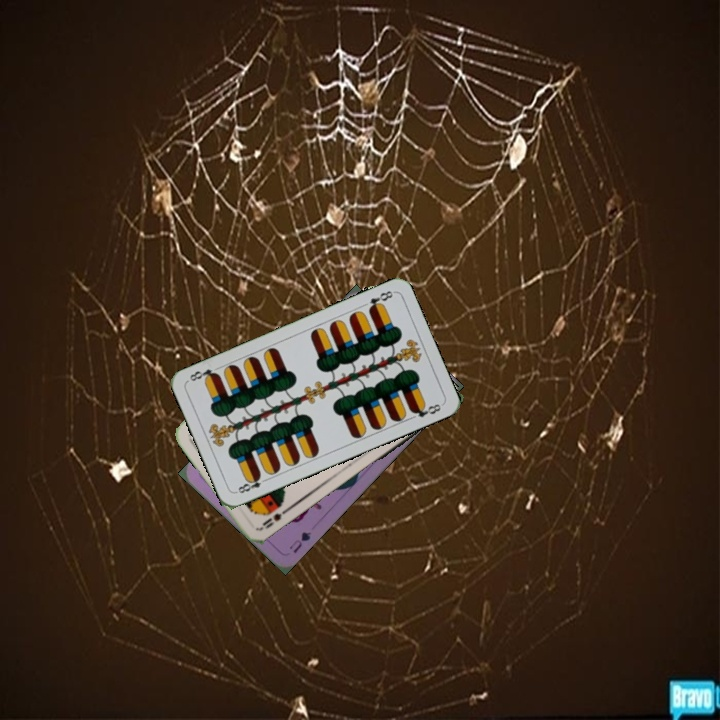E8: (232, 471, 271, 496), (364, 287, 396, 314)
GU: (285, 526, 314, 556)
SO: (257, 503, 293, 532)
